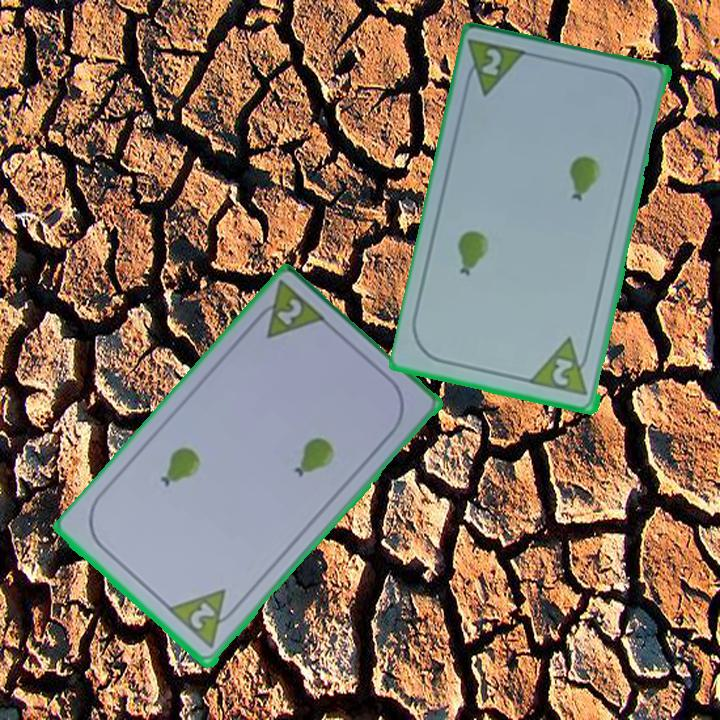2p: (247, 278, 330, 343), (165, 585, 244, 653), (529, 335, 595, 400), (478, 45, 505, 80)
